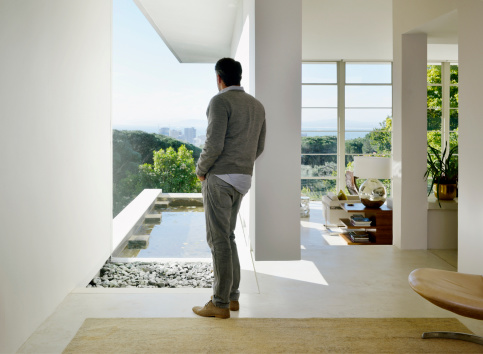em pe: (188, 57, 260, 322)
